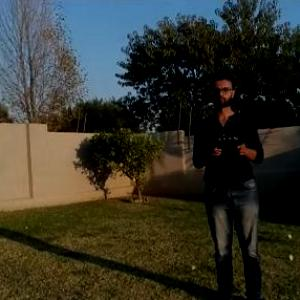follow: (187, 65, 277, 299)
